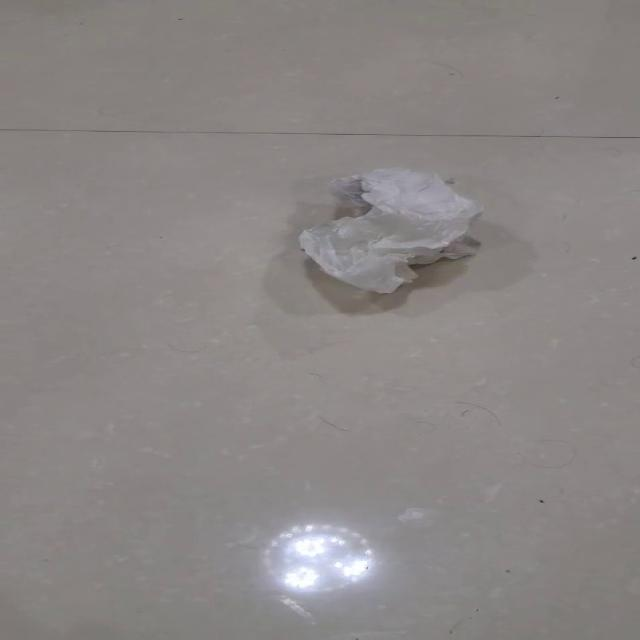plastic: (296, 166, 483, 294)
